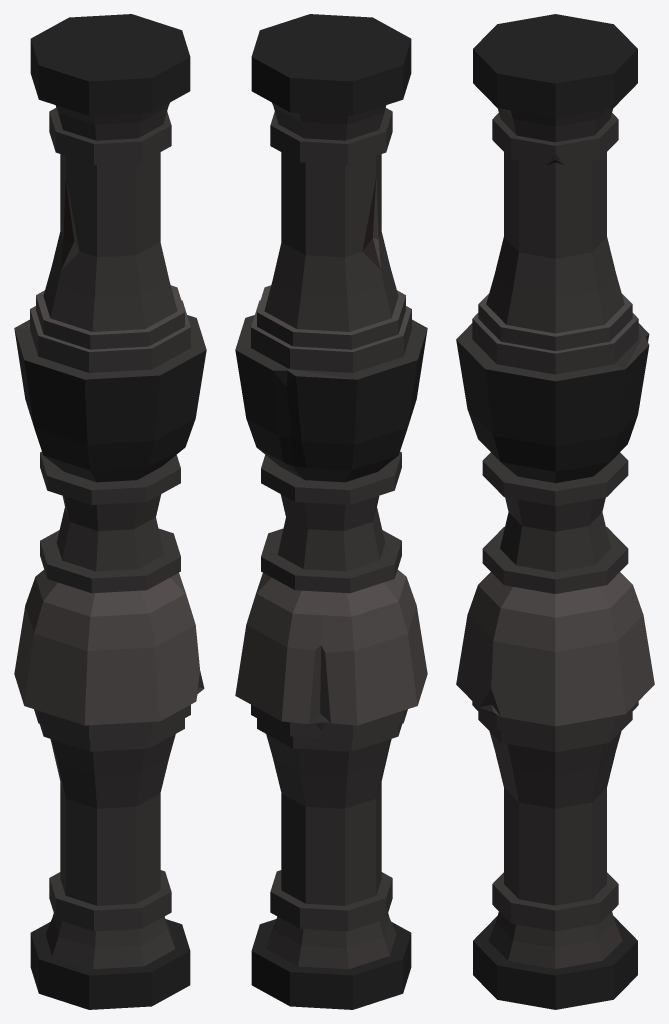
The model's file is Pillar_Cylinder_03.glb.
3 renders of one model, left to right at view 1: azimuth 30°, elevation 25°; view 2: azimuth 150°, elevation 25°; view 3: azimuth 270°, elevation 25°, orthographic.
Parts seen in each view (by area): view 1: Pillar_Cylinder_03; view 2: Pillar_Cylinder_03; view 3: Pillar_Cylinder_03.
Boxes of the visible parts, left/top/right/bottom form: Pillar_Cylinder_03: left=14, top=14, right=206, bottom=1009; Pillar_Cylinder_03: left=235, top=14, right=427, bottom=1009; Pillar_Cylinder_03: left=456, top=14, right=654, bottom=1009.
Size of what is drawn, in the model's own units: 0.779 by 4.01 by 0.779.
Materials: 1 (1 with a texture image).
